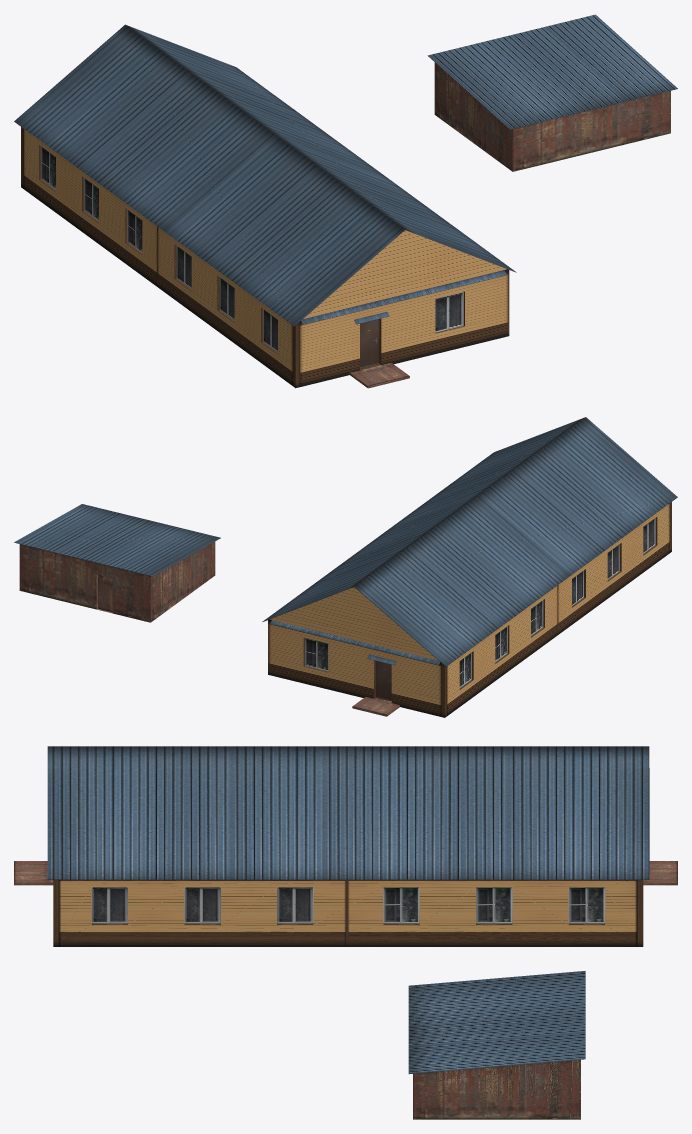
File: r402_tushnolobovo_dom5.FBX
3 renders of one model, top to bottom at view 1: azimuth 30°, elevation 25°; view 2: azimuth 150°, elevation 25°; view 3: azimuth 270°, elevation 25°, orthographic. The views are drawn at different scales.
Visible parts, largest first — view 1: 1, 2; view 2: 1, 2; view 3: 1, 2.
Boxes of the visible parts, bbox=[...] form: 1: bbox=[14, 24, 516, 388]; 2: bbox=[427, 14, 677, 171]; 1: bbox=[262, 417, 677, 717]; 2: bbox=[14, 504, 220, 622]; 1: bbox=[14, 746, 677, 946]; 2: bbox=[408, 971, 585, 1119].
Size of the model in its own units: 25.84 by 25.04 by 6.02.
